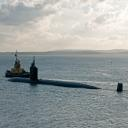submarine: (9, 55, 126, 93)
